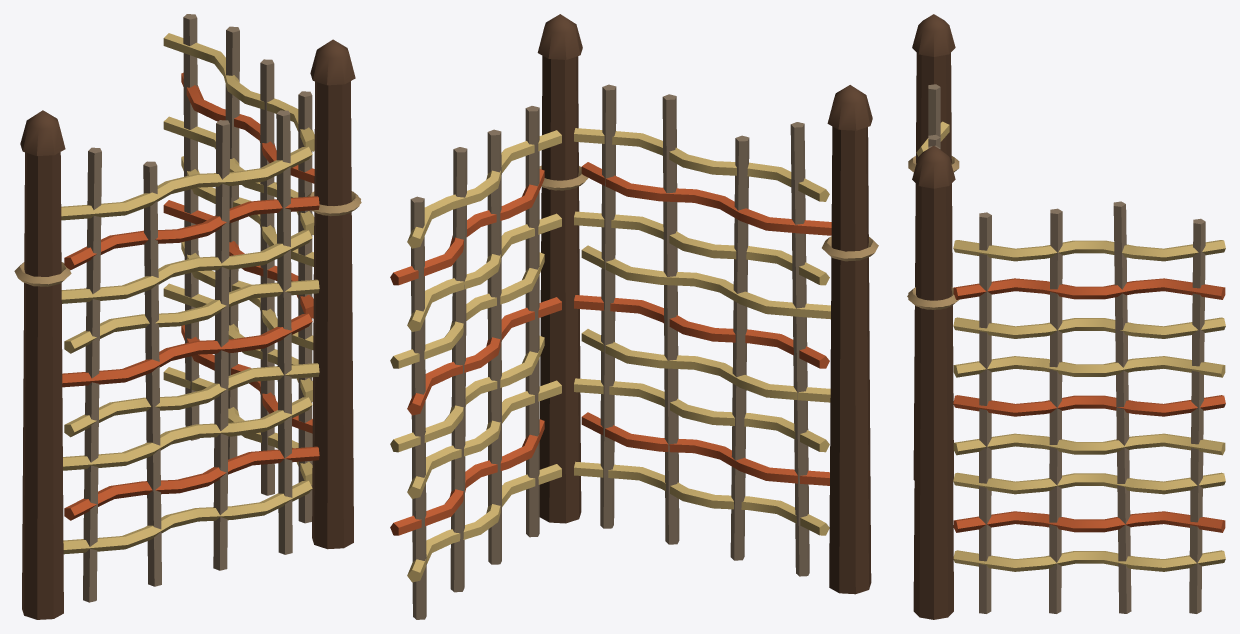
Rendered from deco_fence_corner.fbx.
3 renders of one model, left to right at view 1: azimuth 30°, elevation 25°; view 2: azimuth 150°, elevation 25°; view 3: azimuth 270°, elevation 25°, orthographic. The views are drawn at different scales.
Visible parts, largest first — view 1: Fence_Corner_Panel, Fence_Corner_Posts; view 2: Fence_Corner_Panel, Fence_Corner_Posts; view 3: Fence_Corner_Panel, Fence_Corner_Posts.
Boxes of the visible parts, x1,y1,x2,y2 form: Fence_Corner_Panel: (61,14,319,602); Fence_Corner_Posts: (14,39,361,619); Fence_Corner_Panel: (390,84,831,619); Fence_Corner_Posts: (537,14,878,594); Fence_Corner_Panel: (916,84,1225,613); Fence_Corner_Posts: (907,14,959,619).
Size of the model in its own units: 117 by 165 by 102.
